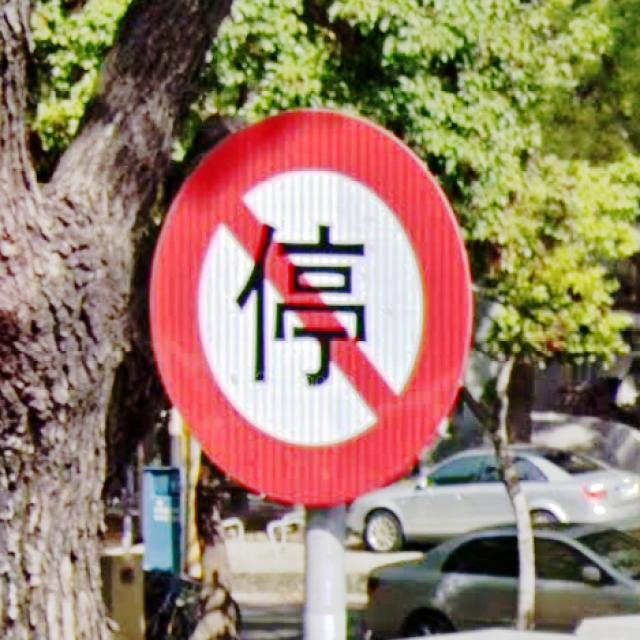nopark: (146, 104, 475, 507)
